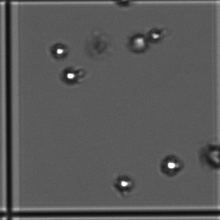Dead Cell: (86, 30, 109, 59)
Living Cell: (149, 28, 165, 41), (64, 69, 79, 82), (117, 178, 133, 190), (53, 45, 67, 58), (133, 35, 146, 49), (164, 159, 179, 171)
